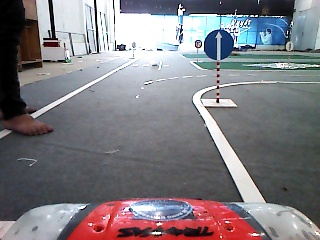straight: (204, 30, 234, 60)
